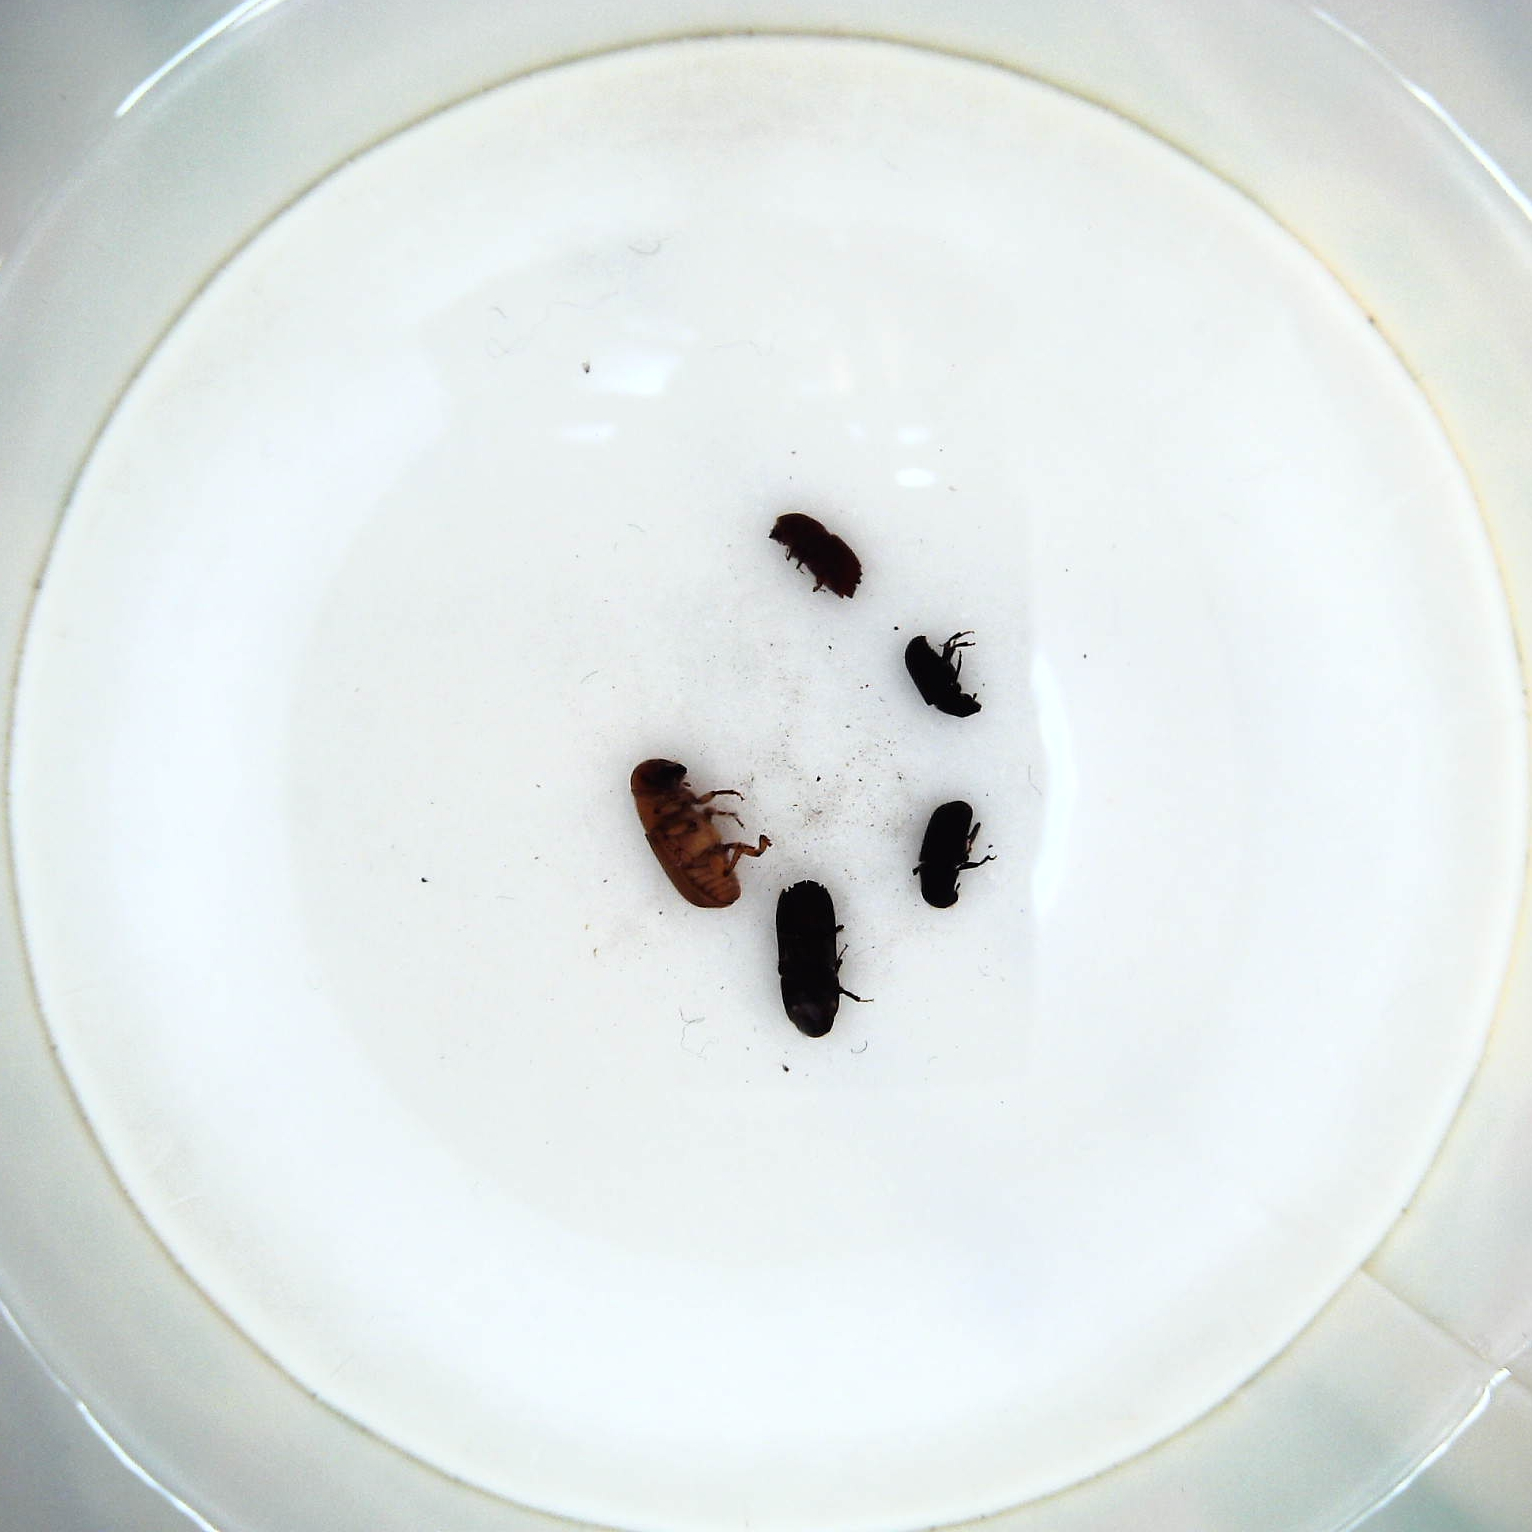Boerner: (772, 874, 873, 1044)
Leconte: (623, 749, 779, 915)
armandi: (906, 800, 999, 915)
coleoptera: (901, 624, 989, 732)
linnaeus: (765, 511, 867, 603)
